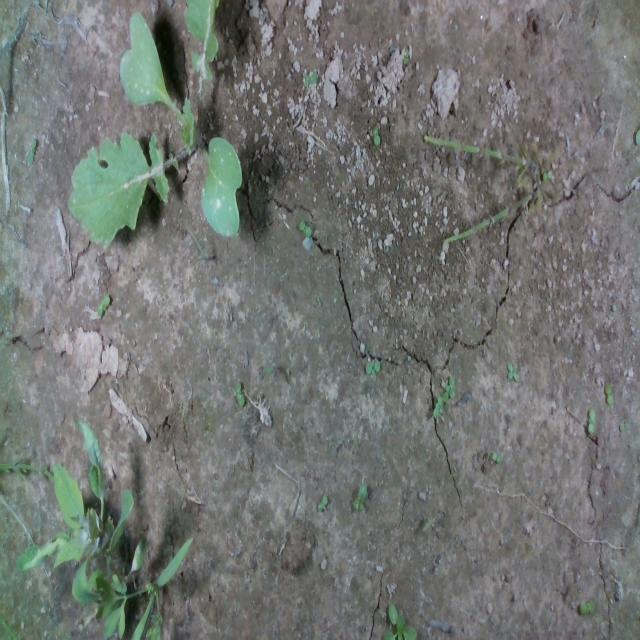weed: (231, 372, 255, 415), (296, 213, 316, 241), (505, 360, 521, 394), (364, 354, 386, 377), (585, 407, 598, 445), (602, 383, 618, 413), (316, 489, 330, 506), (370, 127, 382, 144)
